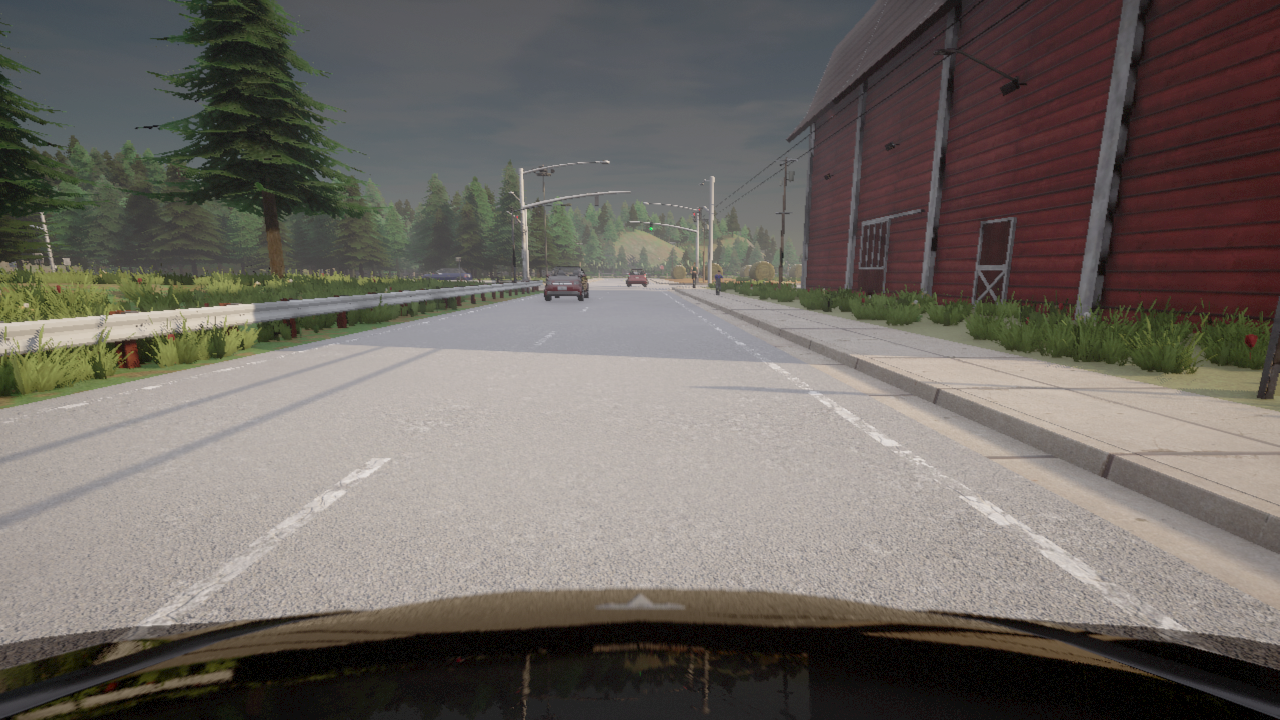cyclist: (0, 588, 1279, 719), (544, 266, 588, 300), (422, 268, 472, 279), (626, 269, 647, 286)
pedestrian: (714, 271, 722, 294), (691, 262, 697, 287)
